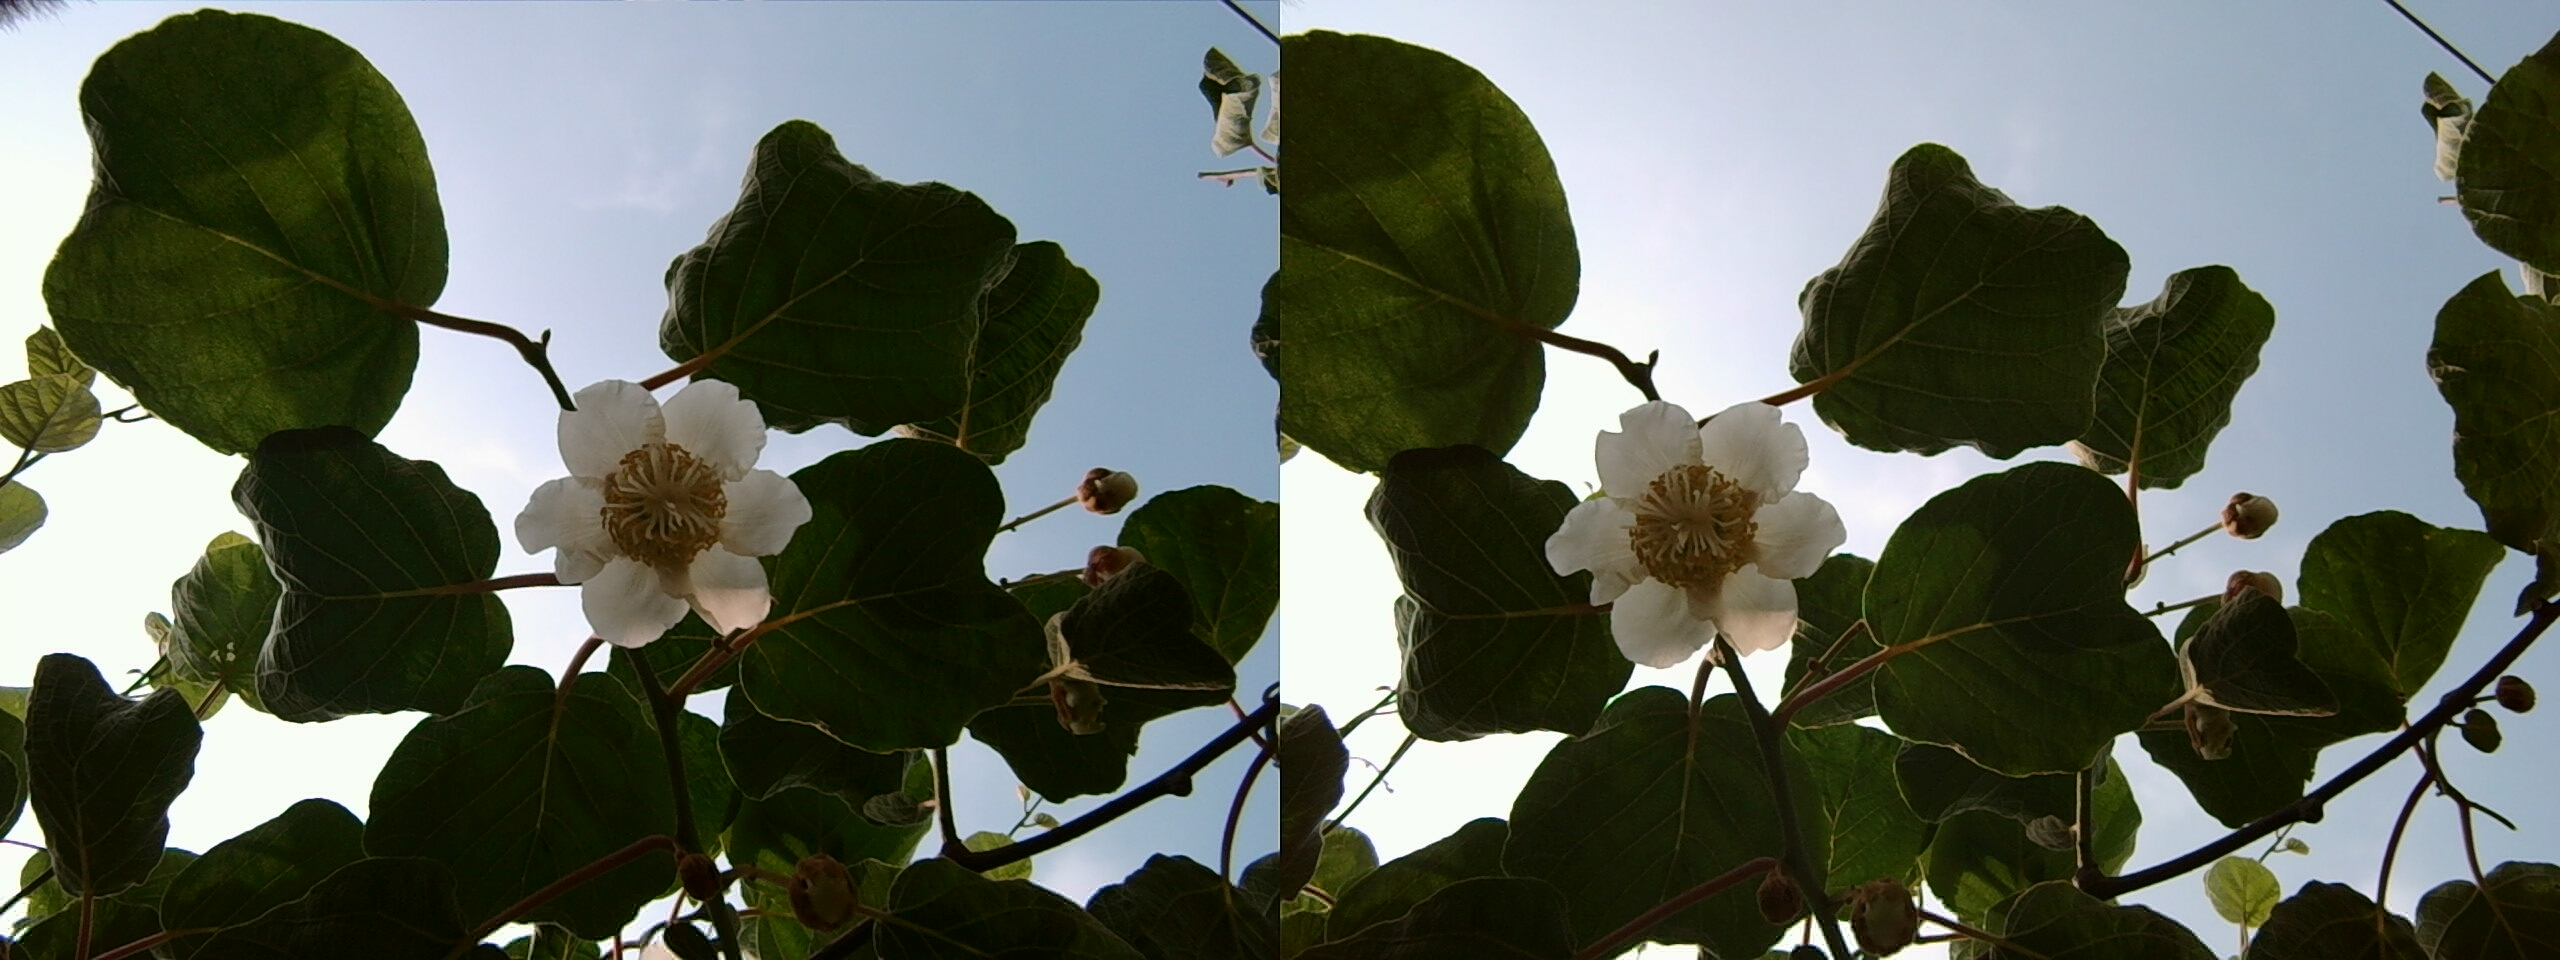flower: (1556, 382, 1832, 668), (522, 366, 793, 635)
